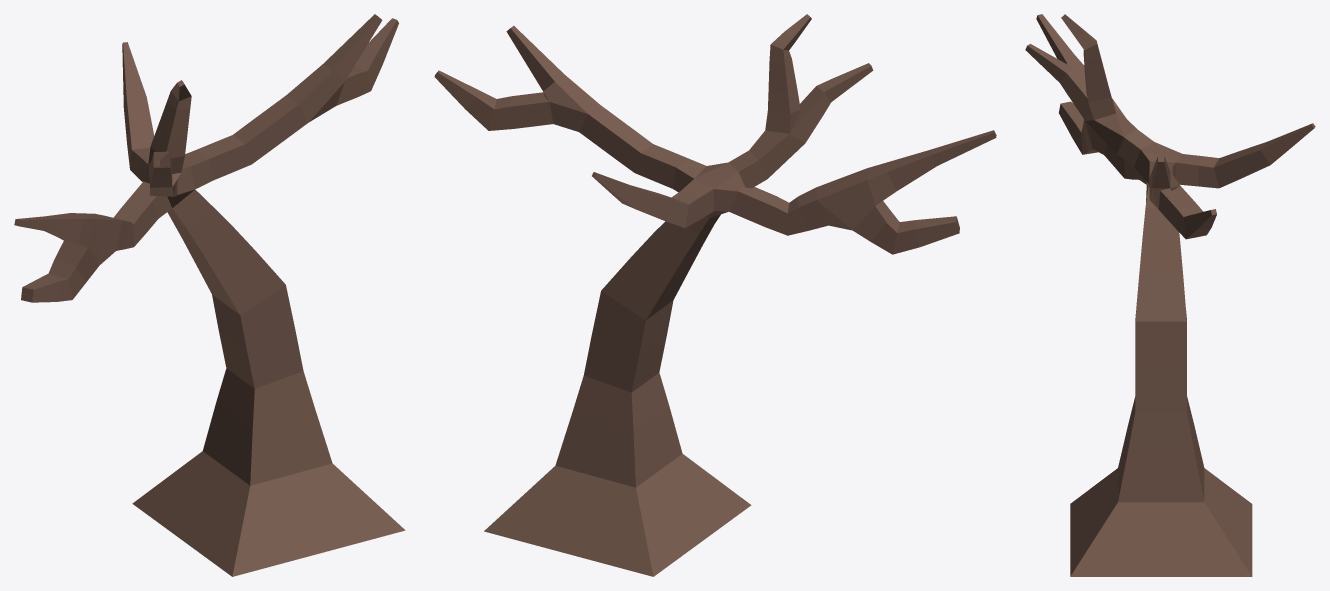
The model's file is Arvore_seca1.fbx.
3 views of the same model, side by side, from view 1: azimuth 30°, elevation 25°; view 2: azimuth 150°, elevation 25°; view 3: azimuth 270°, elevation 25° (orthographic). The views are drawn at different scales.
Visible parts, largest first — view 1: Cube; view 2: Cube; view 3: Cube.
Boxes of the visible parts, x1,y1,x2,y2 form: Cube: (14, 14, 405, 576); Cube: (434, 14, 996, 576); Cube: (1025, 14, 1315, 576).
Size of the model in its own units: 487 by 498 by 281.
